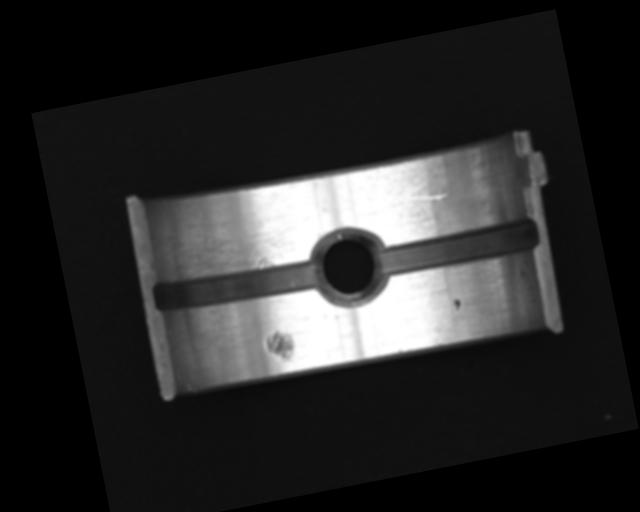bruise: (262, 326, 295, 365), (452, 297, 463, 313)
gap: (150, 249, 325, 320), (373, 216, 540, 279)
hole: (307, 221, 391, 313)
nick: (391, 185, 449, 209)
scratch: (158, 191, 318, 288)
